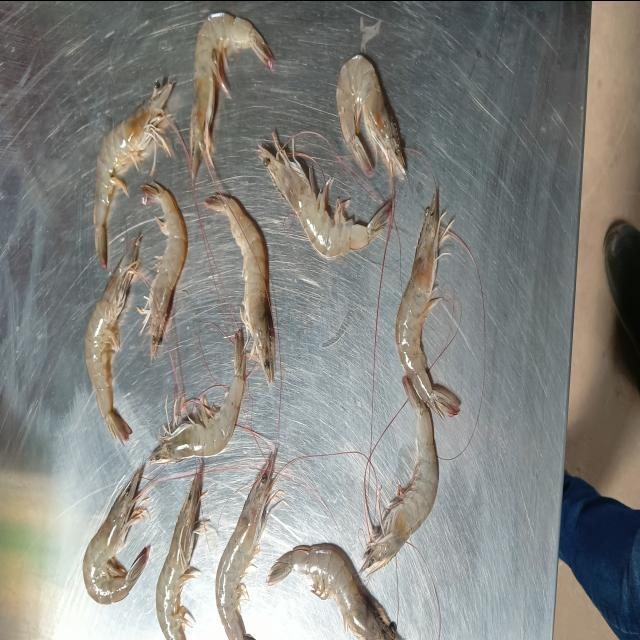shrimp: (260, 133, 391, 259), (94, 82, 172, 266), (190, 14, 272, 177), (208, 199, 276, 390), (149, 330, 246, 463), (269, 543, 398, 640), (150, 335, 246, 463), (85, 237, 140, 441), (398, 211, 450, 414), (216, 461, 274, 640), (368, 421, 438, 569), (82, 470, 149, 602), (338, 53, 405, 180), (140, 180, 188, 357), (156, 476, 201, 640)
